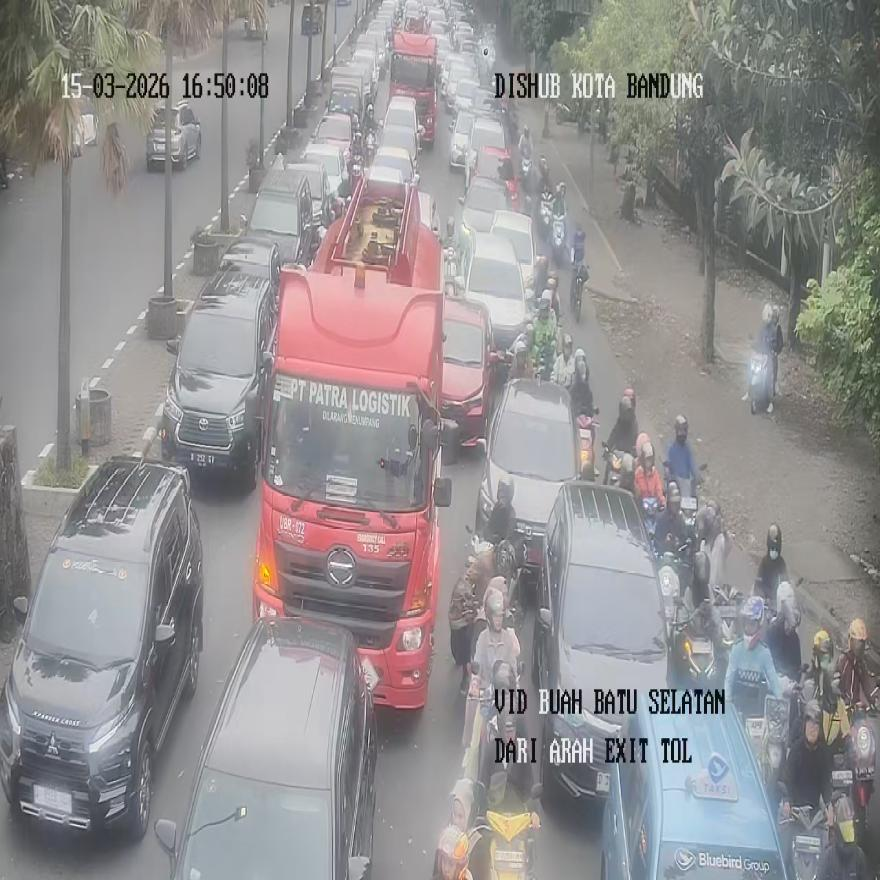Mobil: (0, 456, 204, 840), (155, 616, 377, 879), (531, 480, 670, 799), (599, 697, 793, 879), (159, 270, 277, 491), (475, 379, 579, 546), (456, 232, 532, 348), (246, 166, 314, 262)
Motor: (477, 772, 542, 879), (449, 533, 494, 666), (821, 678, 855, 804), (746, 693, 789, 789), (847, 704, 877, 840), (674, 599, 719, 686), (462, 663, 494, 780), (462, 664, 494, 780), (780, 803, 827, 879), (762, 695, 790, 788), (663, 460, 698, 528), (731, 669, 767, 733), (654, 538, 693, 596), (713, 585, 745, 655), (658, 553, 683, 642), (570, 224, 588, 321), (748, 352, 772, 414), (577, 414, 598, 481), (570, 260, 589, 322), (547, 272, 561, 349), (556, 102, 586, 133), (641, 498, 662, 542), (753, 580, 777, 618), (603, 443, 622, 486), (551, 217, 567, 266), (502, 98, 518, 143), (535, 346, 555, 382), (539, 190, 552, 242), (682, 493, 698, 532), (571, 224, 585, 266), (555, 101, 579, 124), (445, 246, 459, 281), (521, 153, 532, 193), (444, 279, 463, 299), (365, 131, 376, 164), (350, 156, 364, 181), (0, 148, 8, 188), (244, 18, 258, 37), (523, 195, 534, 217), (244, 18, 250, 37), (267, 0, 278, 7)
Truk berat: (252, 183, 459, 710)
